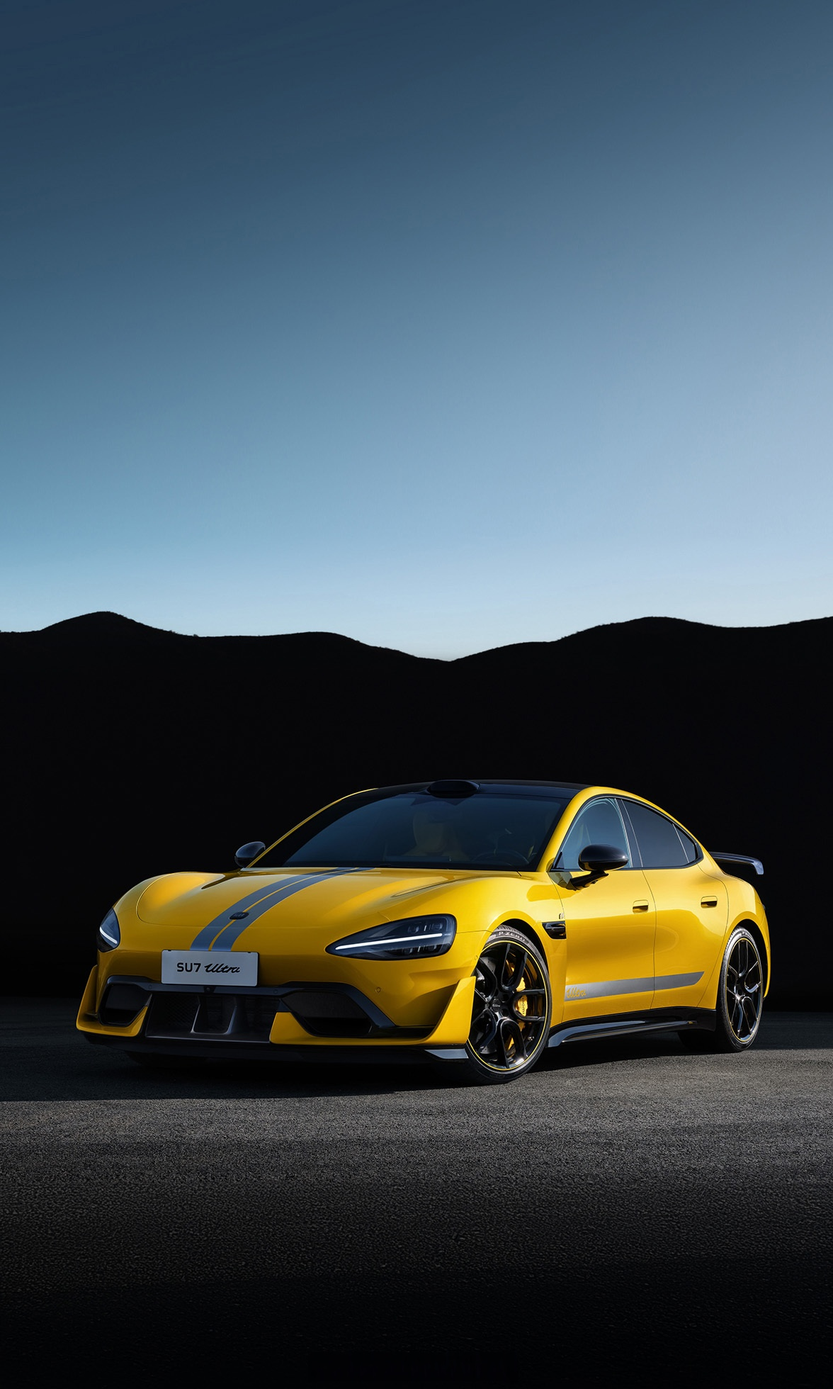su7: (79, 779, 781, 1083)
